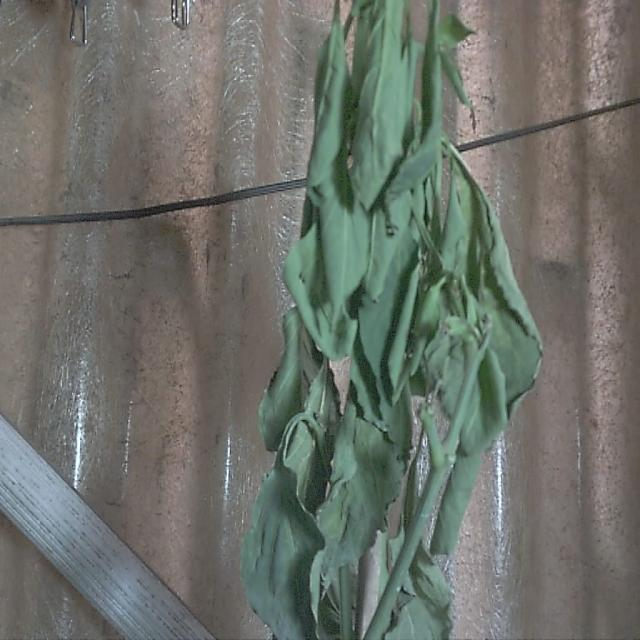Leaf: (243, 455, 323, 640), (323, 404, 398, 585), (352, 5, 399, 196), (310, 23, 351, 197), (260, 307, 301, 448)
